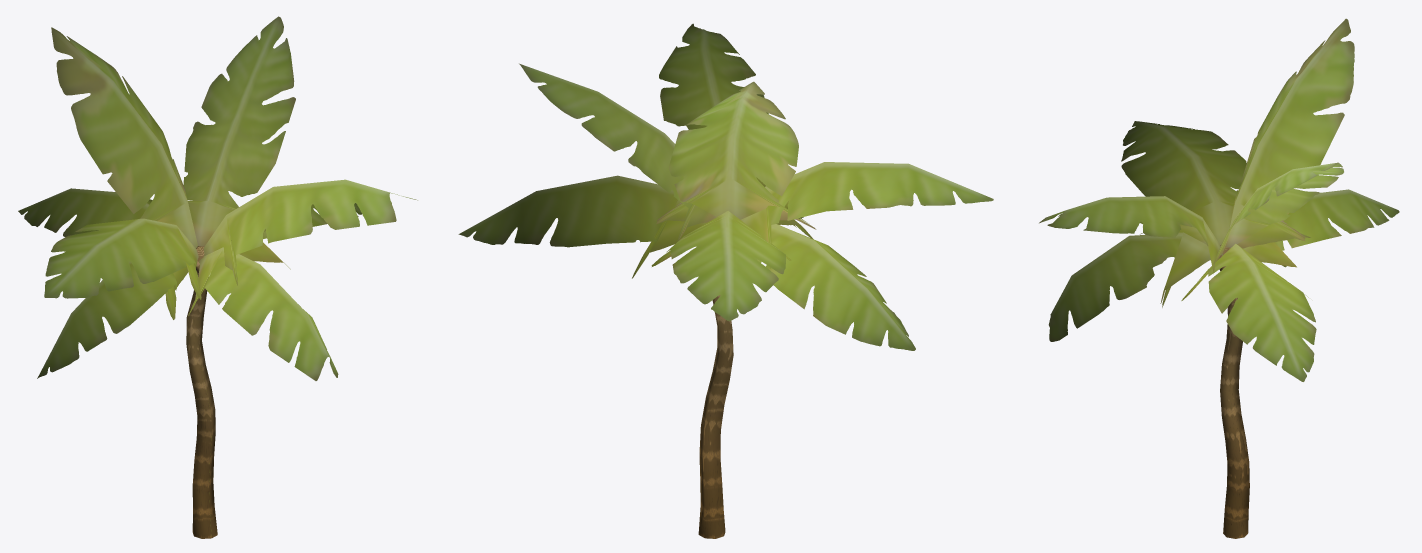
Rendered from coconut palm 04_lod4.obj.
3 views of the same model, side by side, from view 1: azimuth 30°, elevation 25°; view 2: azimuth 150°, elevation 25°; view 3: azimuth 270°, elevation 25° (orthographic). The views are drawn at different scales.
Visible parts, largest first — view 1: tree; view 2: tree; view 3: tree.
Boxes of the visible parts, box(x1,y1,x2,y2) form: tree: box(18, 16, 417, 538); tree: box(458, 23, 993, 538); tree: box(1039, 18, 1399, 538).
Bounding box in the file's own units: 374 × 416 × 303.
